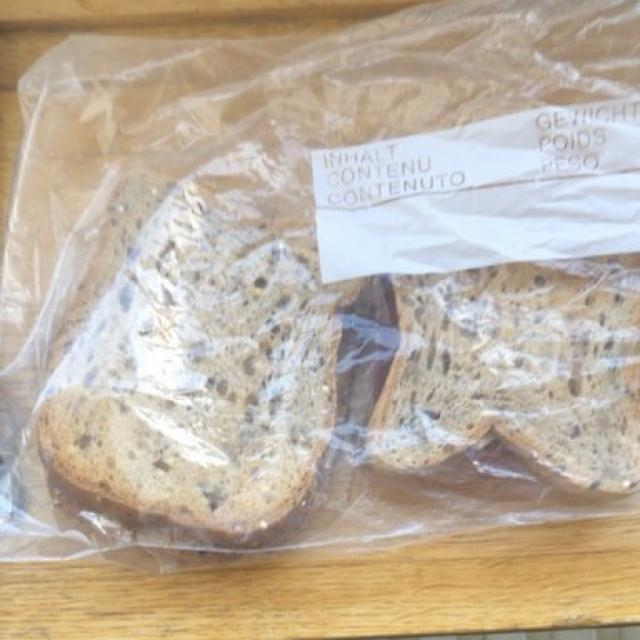bread: (34, 168, 634, 536)
